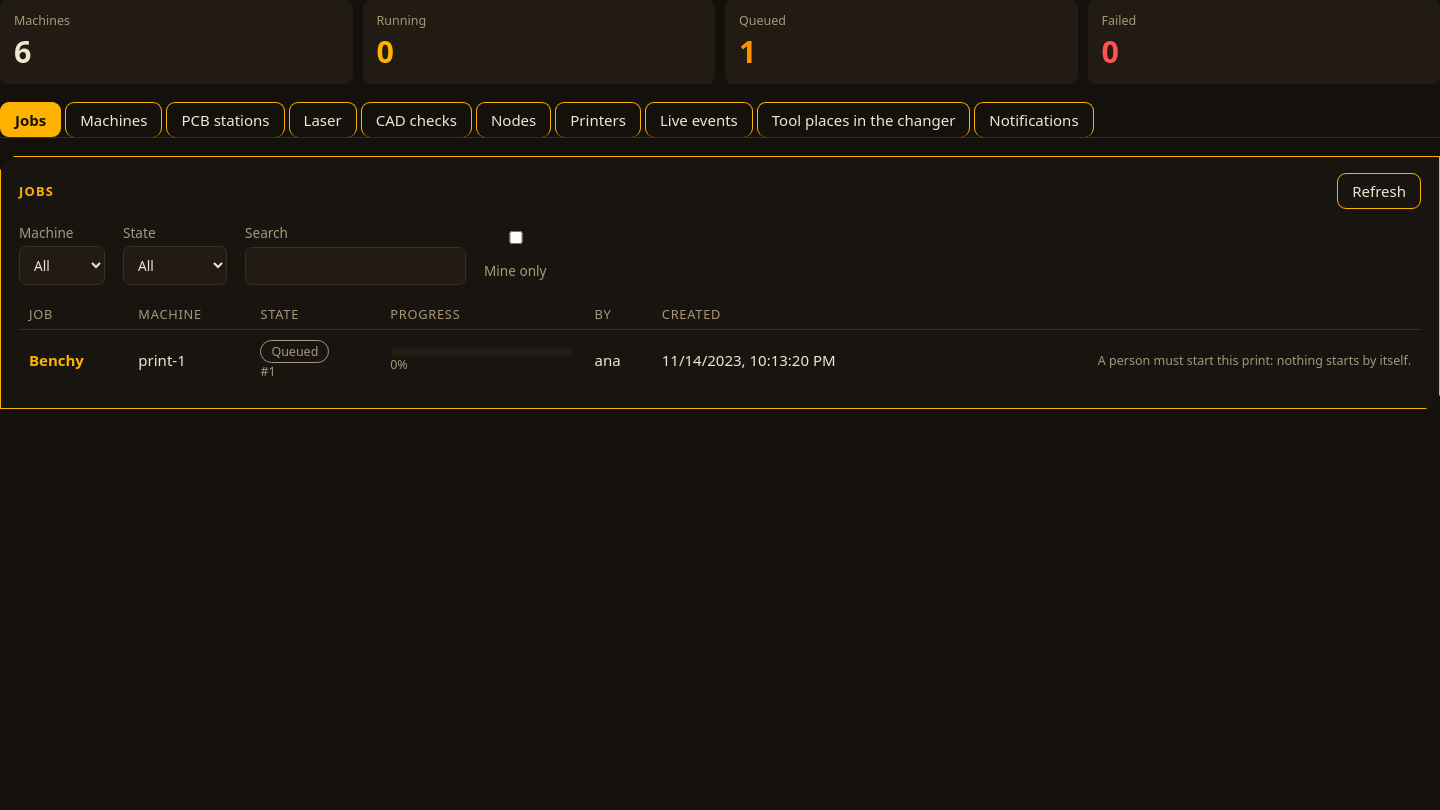
Test: the machines of the plugins and their safety › marks every machine that has only run against a simulator and no other
What coordinates should you click on to do the following:
click the tab "Machines"
I would click on:
 (114, 120)
Its box is [65,102,162,137].
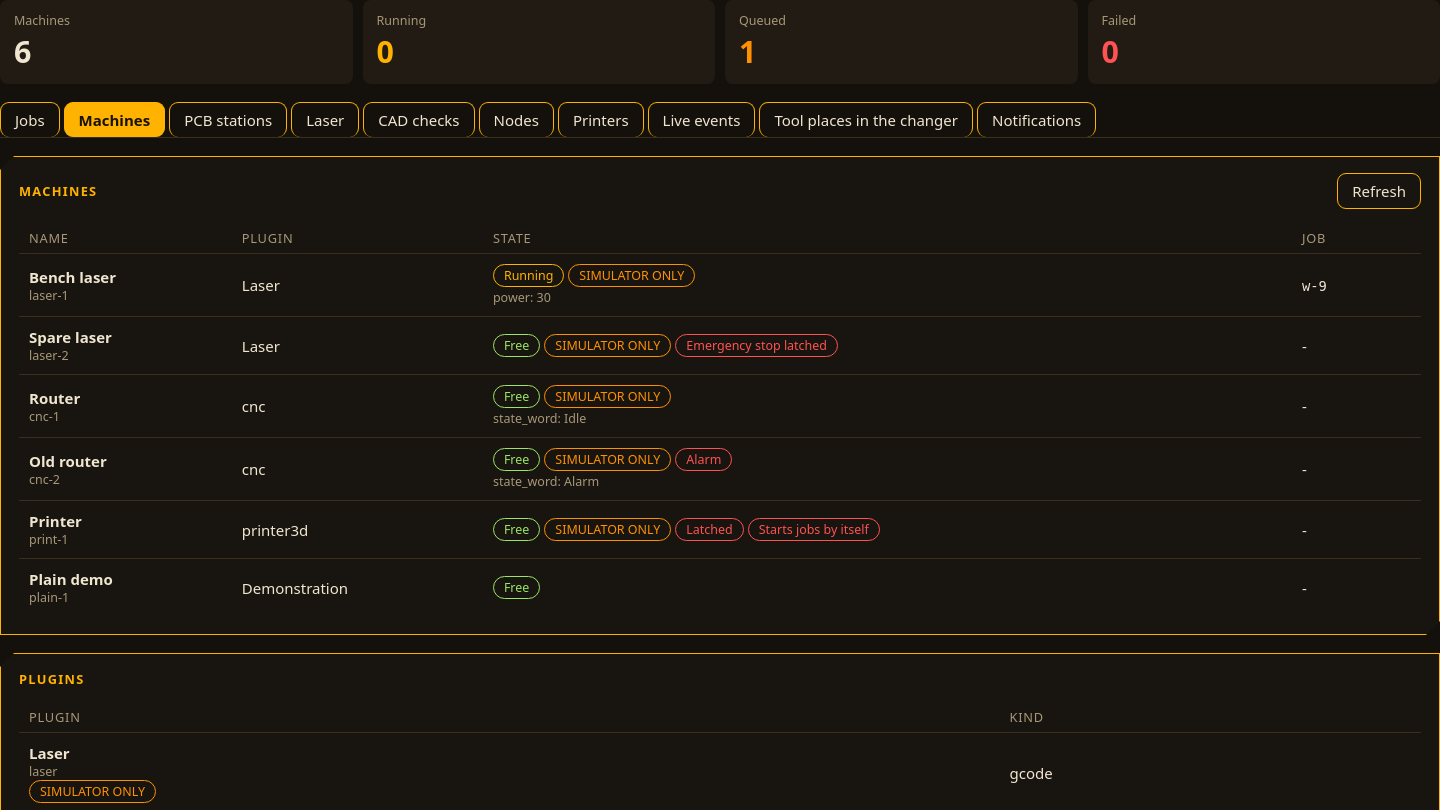
Check: the row that starts with "Bench laser" shows "SIMULATOR ONLY", box [579,267,684,284]
Check: the row that starts with "Spare laser" shows "SIMULATOR ONLY", box [555,337,660,354]
Check: the row "Router cnc-1 cnc Free SIMULATOR ONLY state_word: Idle -" is shown, box [19,374,1421,438]
